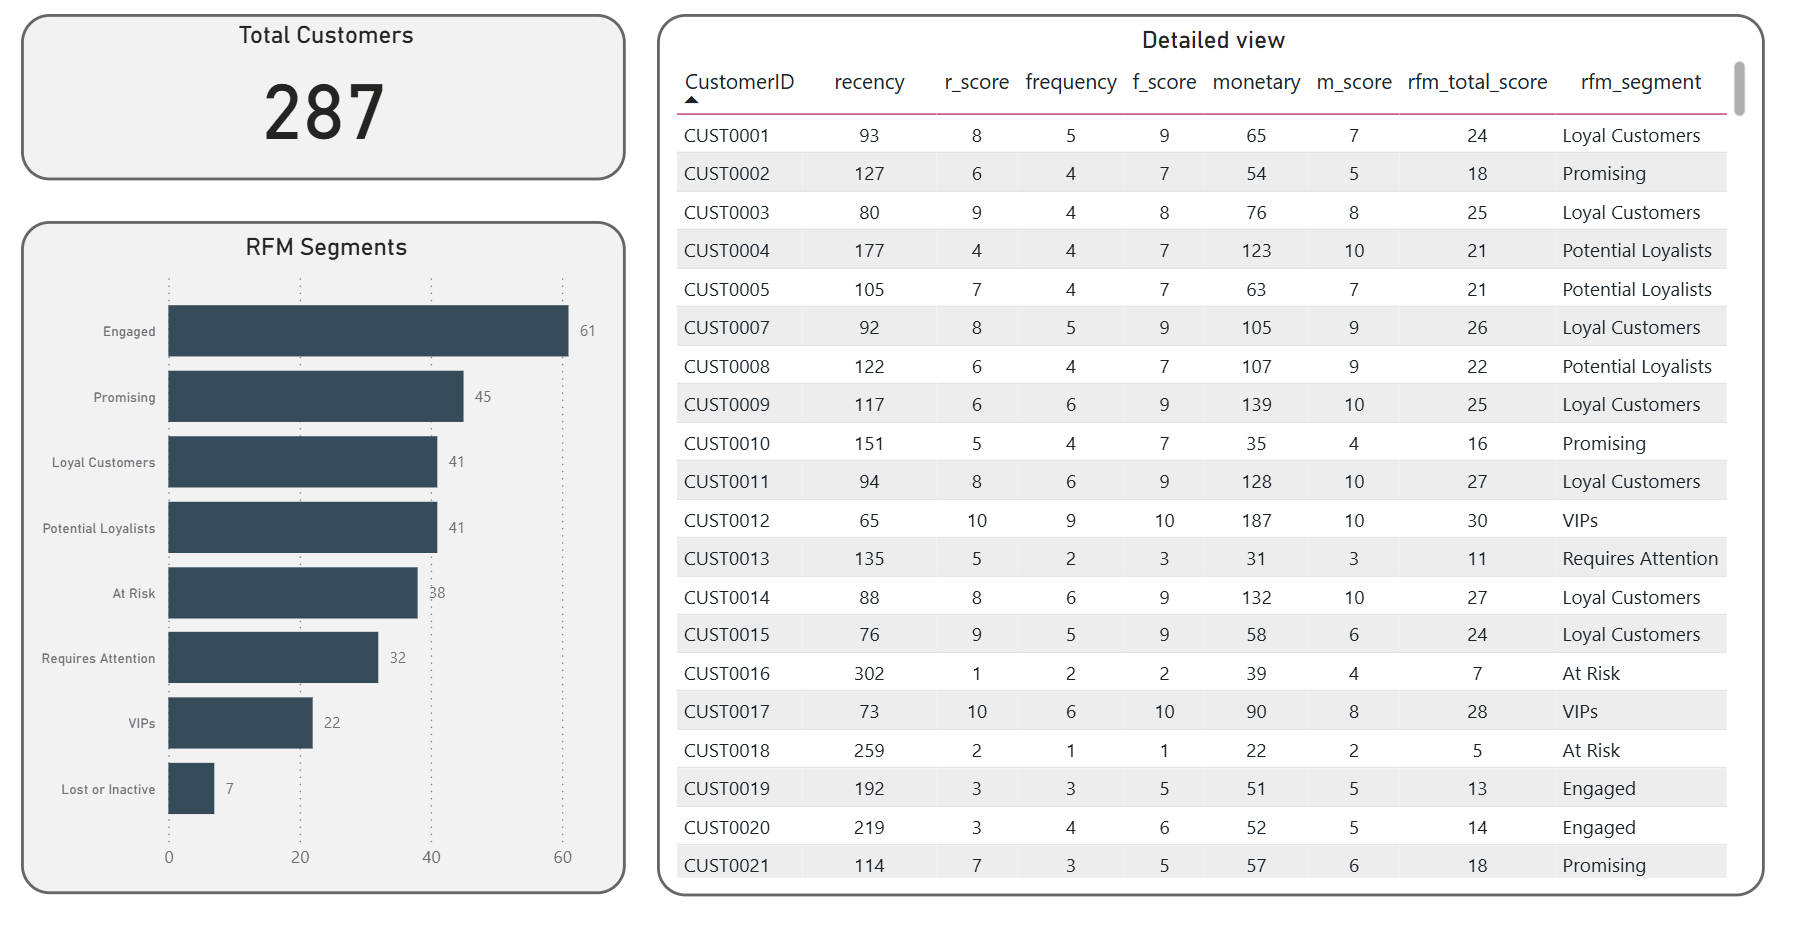

What the dashboard file says about the page in this screenshot:
{"tool":"powerbi","page":{"name":"RFM Overview","canvas":[1280,720],"ordinal":0},"visuals":[{"type":"card","title":"Total Customers","fields":{"Values":["Query1.Total_Customers"]},"box":[29.4,52.6,423.8,116.7],"z":0},{"type":"clusteredBarChart","title":"RFM Segments","fields":{"Category":["Query1.rfm_segment"],"Y":["CountNonNull(Query1.CustomerID)"]},"box":[29.3,198.1,424.3,472.4],"z":1000},{"type":"tableEx","title":"Detailed view","fields":{"Values":["Query1.CustomerID","Query1.recency","Query1.r_score","Query1.frequency","Query1.f_score","Query1.monetary","Query1.m_score","Query1.rfm_total_score","Query1.rfm_segment"]},"box":[474.9,52.4,776.5,619.1],"z":2000}]}

Visuals, with their boxes on the page's 1280x720 design canvas (x1, y1, x2, y2). These are canvas units, not pixel positions in the 1793x943 screenshot, which may show the page scaled, cropped or inside an application window:
"Total Customers" card: box(29, 53, 453, 169)
"RFM Segments" clusteredBarChart: box(29, 198, 454, 670)
"Detailed view" tableEx: box(475, 52, 1251, 672)
